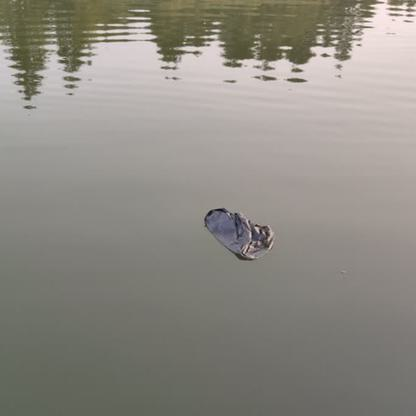plastic bag: (195, 207, 276, 260)
